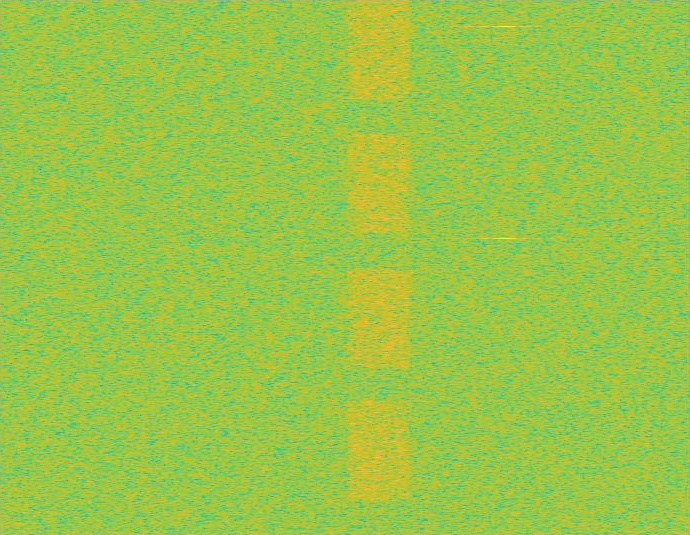5G: (345, 0, 414, 534)
Radar: (498, 0, 511, 534)
